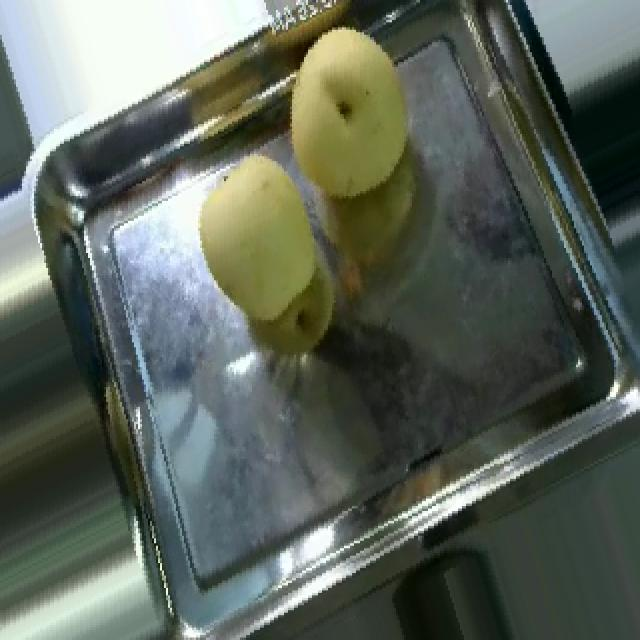Fruit: (254, 2, 440, 226), (176, 132, 350, 342)
